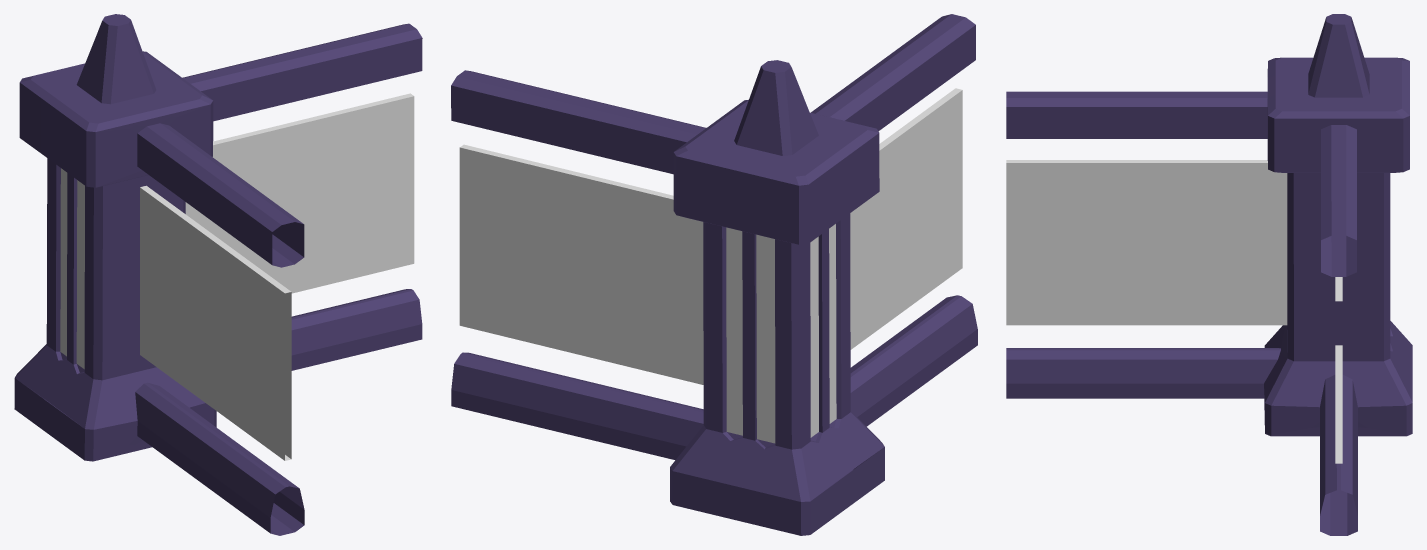
File: Barrière_Angle2.fbx
3 views of the same model, side by side, from view 1: azimuth 30°, elevation 25°; view 2: azimuth 150°, elevation 25°; view 3: azimuth 270°, elevation 25° (orthographic). The views are drawn at different scales.
Parts seen in each view (by area): view 1: Barriere.003, Milieu.003; view 2: Barriere.003, Milieu.003; view 3: Barriere.003, Milieu.003.
Boxes of the visible parts, x1=… form: Barriere.003: x1=14, y1=14, x2=422, y2=535; Milieu.003: x1=140, y1=93, x2=414, y2=460; Barriere.003: x1=451, y1=14, x2=977, y2=535; Milieu.003: x1=459, y1=88, x2=962, y2=384; Barriere.003: x1=1006, y1=14, x2=1412, y2=535; Milieu.003: x1=1006, y1=160, x2=1342, y2=463.
Bounding box in the file's own units: 19.05 × 19.97 × 19.05.
